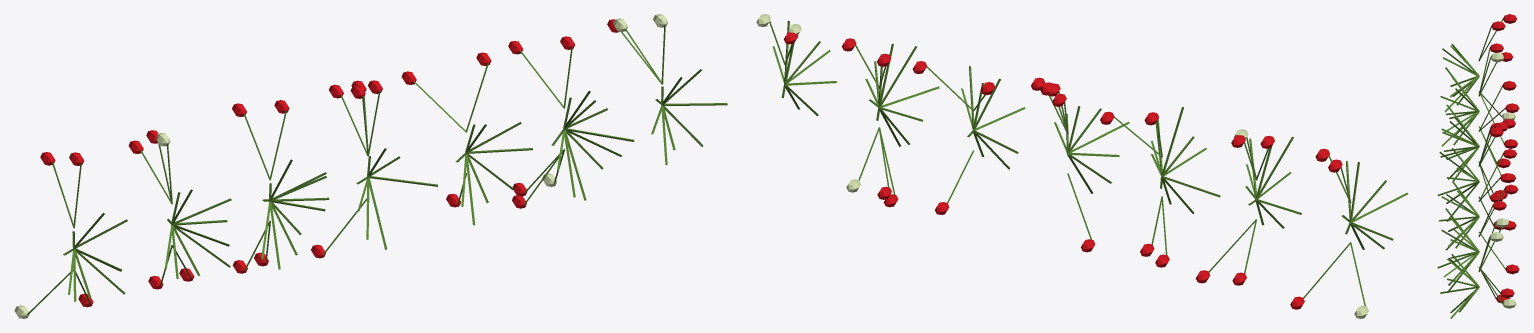
Rendered from r1c5_rest.obj.
The picture shows the model from 3 angles, left to right: view 1: azimuth 30°, elevation 25°; view 2: azimuth 150°, elevation 25°; view 3: azimuth 270°, elevation 25°; orthographic projection. The views are drawn at different scales.
Parts seen in each view (by area): view 1: r1c5_rest; view 2: r1c5_rest; view 3: r1c5_rest.
Part boxes in pixels (bbox=[...]): r1c5_rest: bbox=[14, 14, 727, 318]; r1c5_rest: bbox=[756, 14, 1407, 318]; r1c5_rest: bbox=[1437, 14, 1519, 318].
Size of the model in its own units: 1.7 by 0.4052 by 0.2479.
